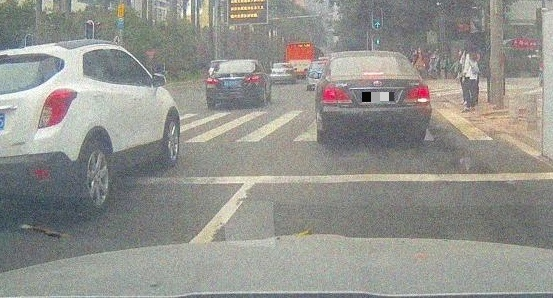L_light: (322, 87, 352, 103), (207, 78, 220, 84)
R_light: (403, 86, 430, 103), (246, 75, 260, 82)
T_light: (363, 71, 385, 76), (232, 62, 240, 65)
day-brake: (315, 50, 431, 144)
day-no: (206, 59, 263, 108)
plate_1: (362, 92, 394, 102)
